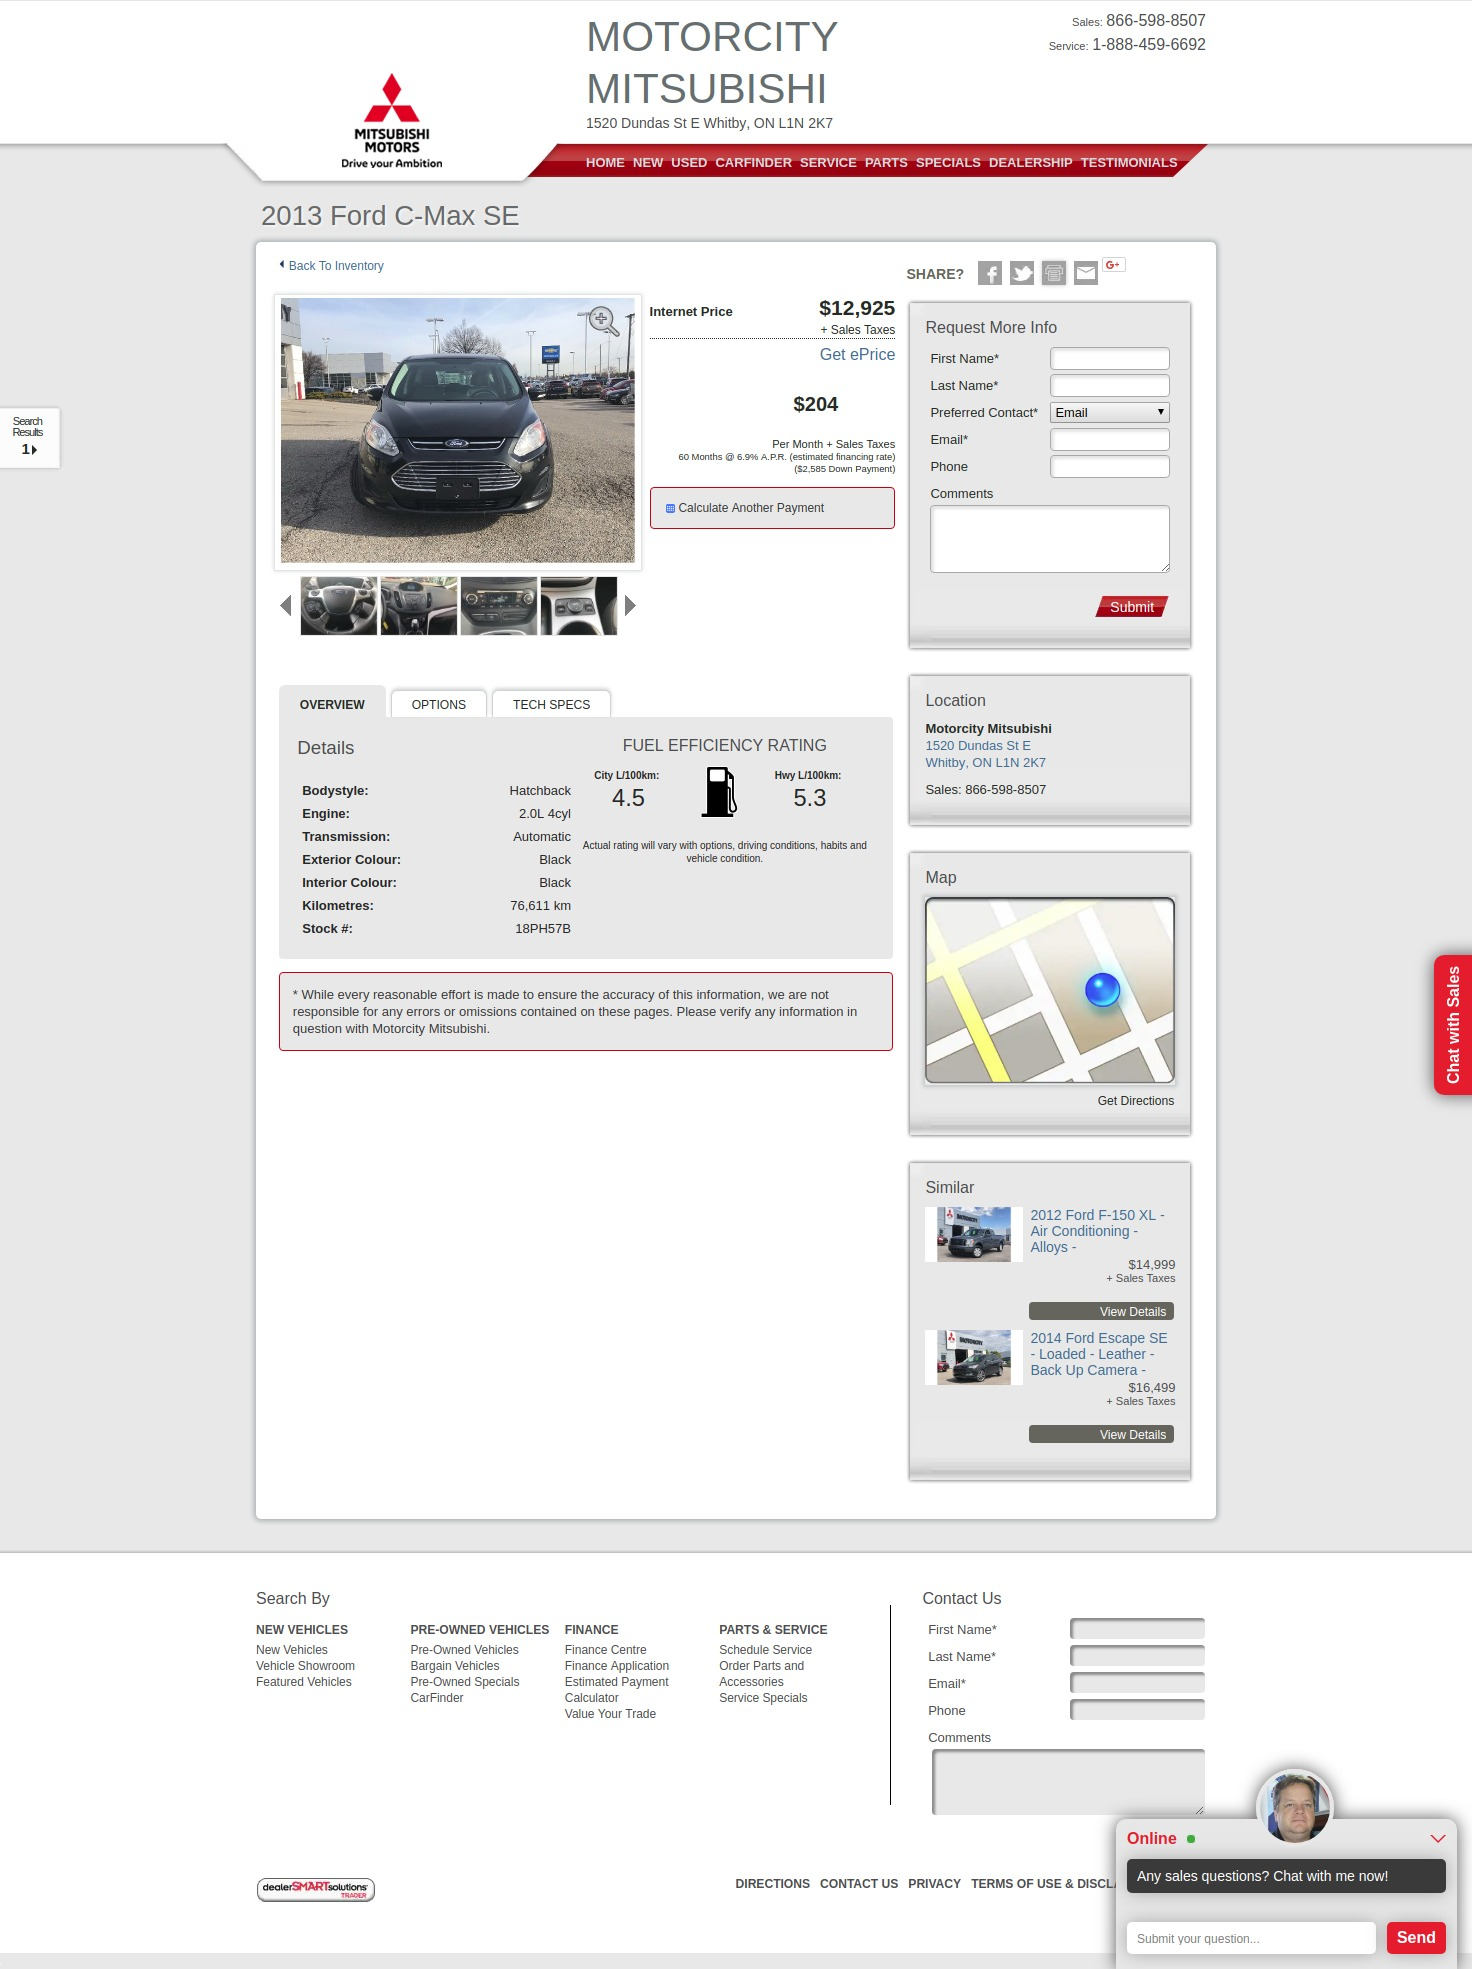car: (625, 593, 637, 618)
